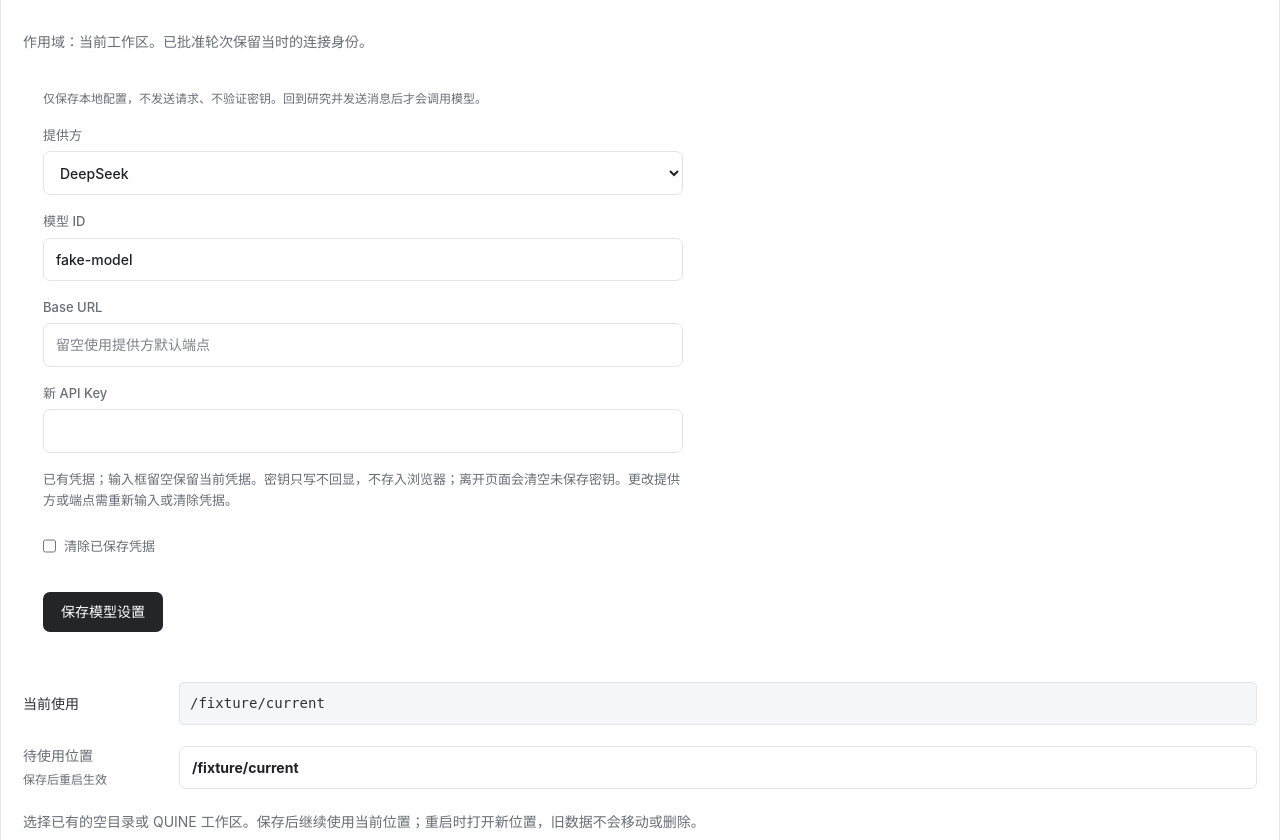
Scenario: desktop settings explicit saves › never fills the existing key; cancel and edits do not save
Type "fake-new-key" into the password field labelled "新 API Key" at point(363, 431), box [43, 409, 683, 453]
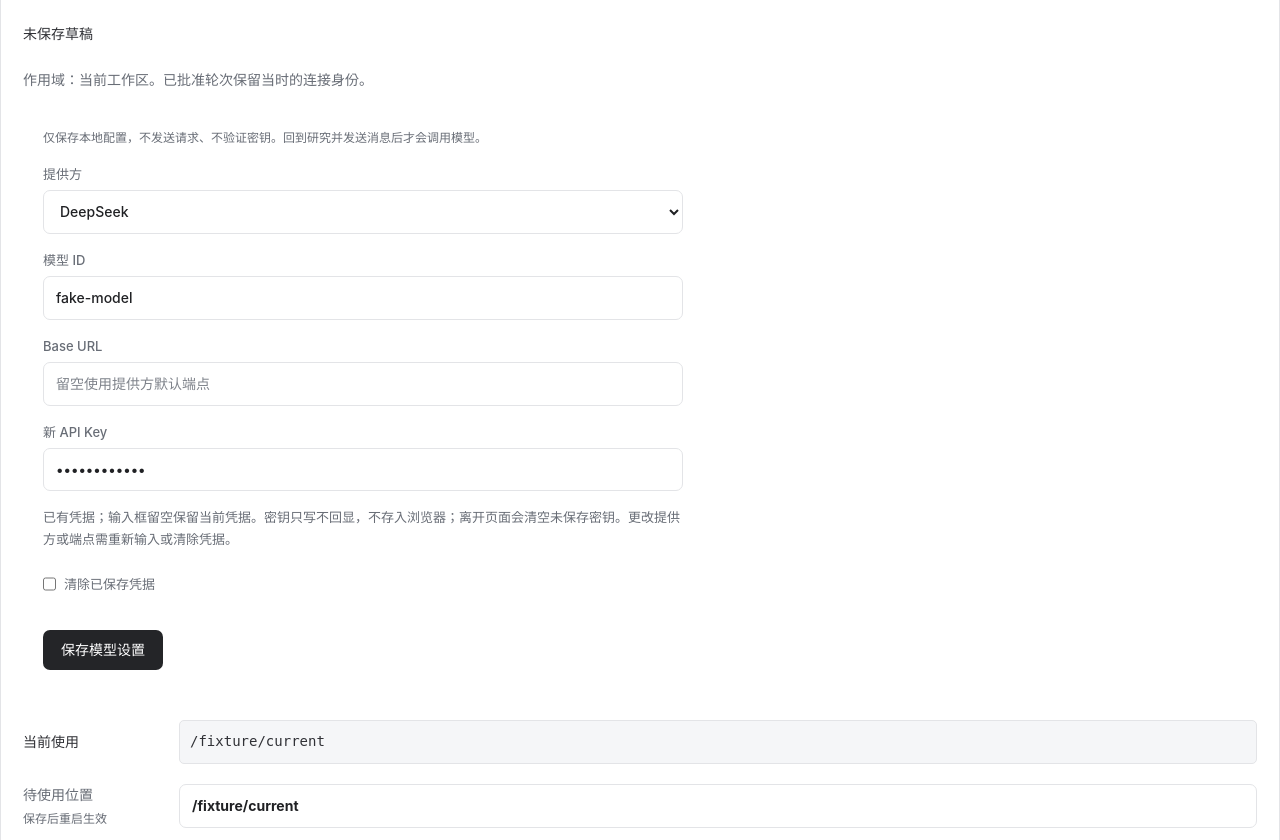
Replace the text in the field named "工作区绝对路径" with "/fixture/other" at point(718, 806), box [179, 784, 1257, 828]
(page scrolled)
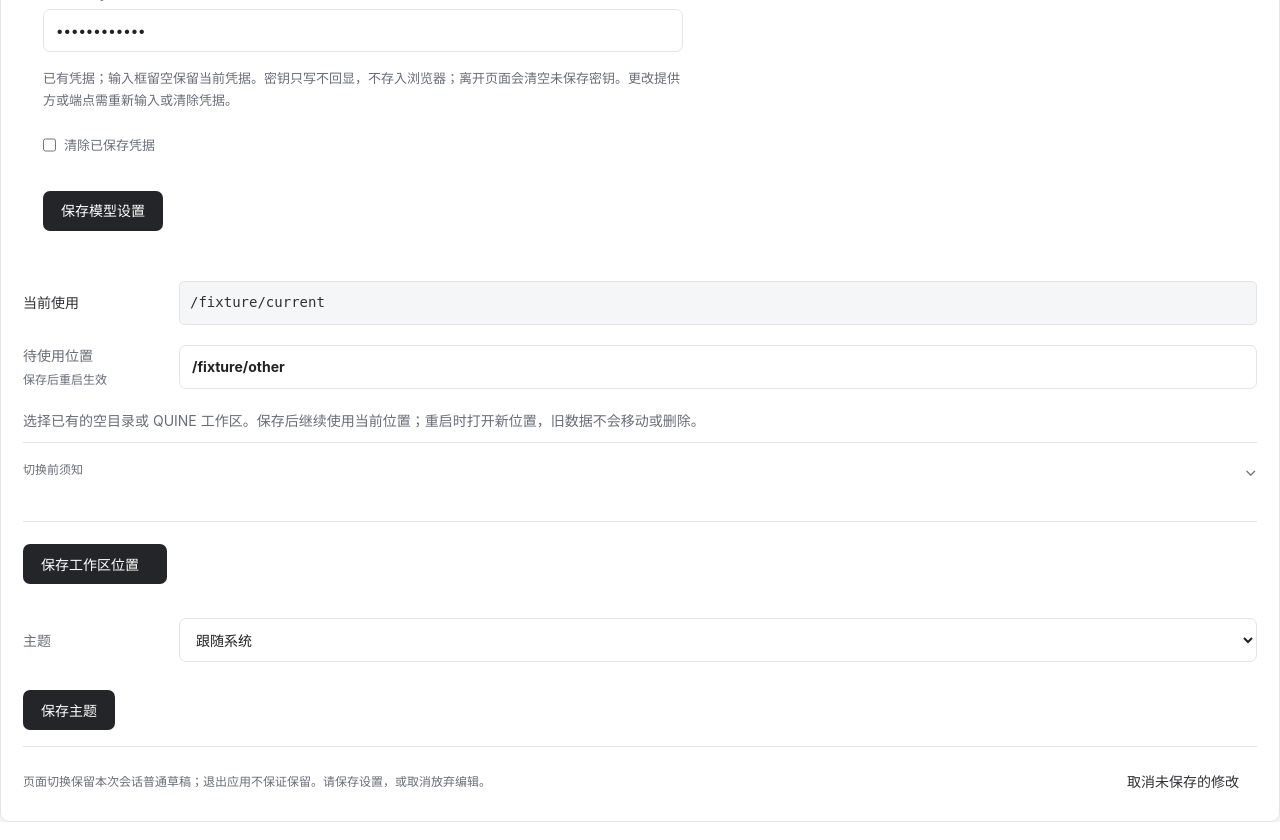
Click the button "取消未保存的修改" at point(1183, 781), box [1109, 761, 1257, 801]
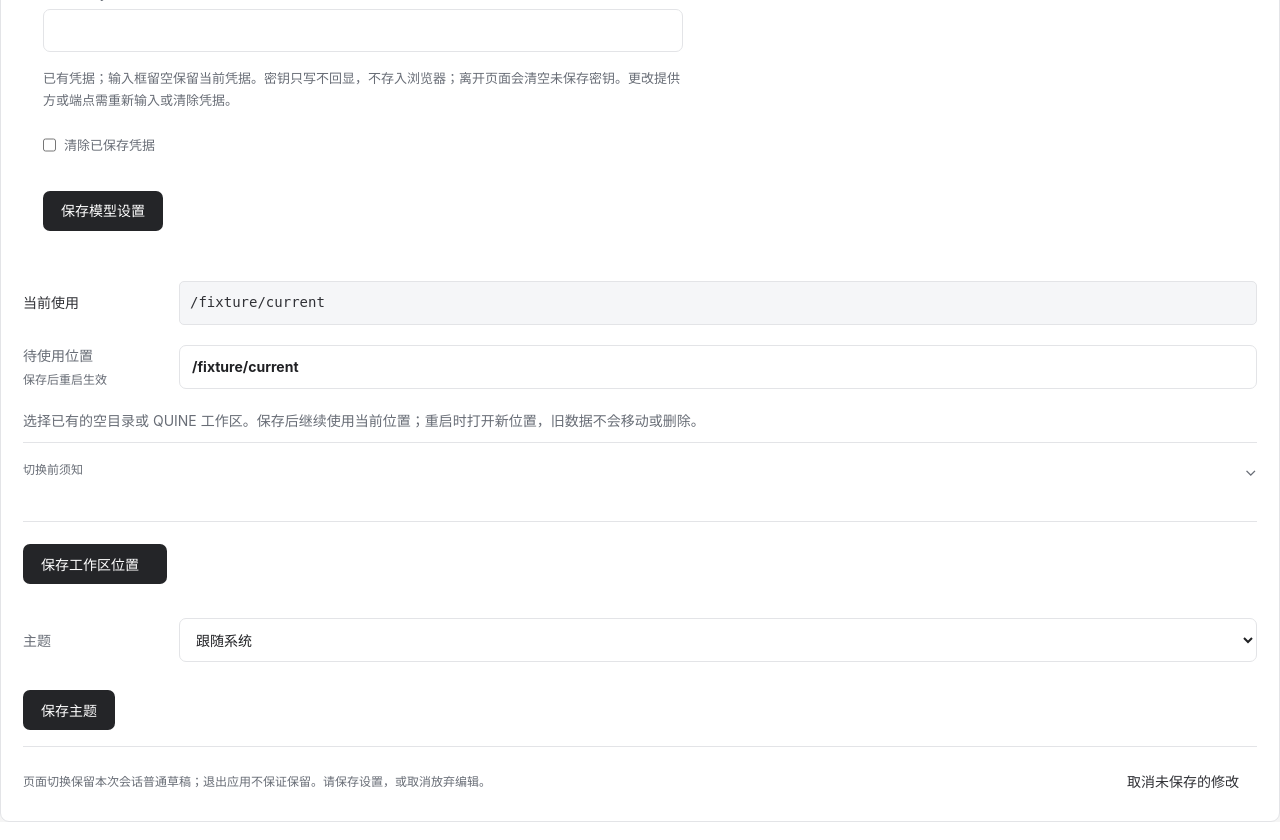
Now the password field labelled "新 API Key" is empty, box [43, 9, 683, 52]
Now the field named "工作区绝对路径" holds "/fixture/current", box [179, 345, 1257, 389]
